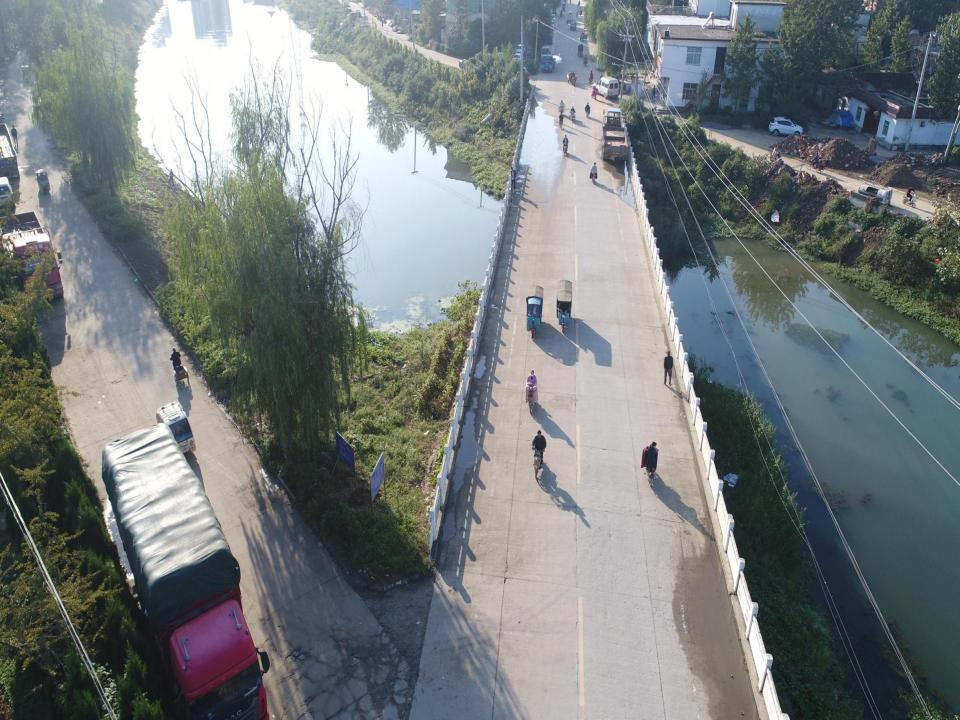car: (766, 114, 804, 143), (494, 48, 511, 66), (512, 51, 524, 71), (515, 43, 525, 58), (548, 20, 556, 31), (550, 13, 556, 22)
truck: (97, 422, 273, 719), (1, 209, 65, 303), (540, 52, 558, 75), (566, 11, 574, 24)
van: (597, 75, 620, 99), (541, 44, 551, 62)
